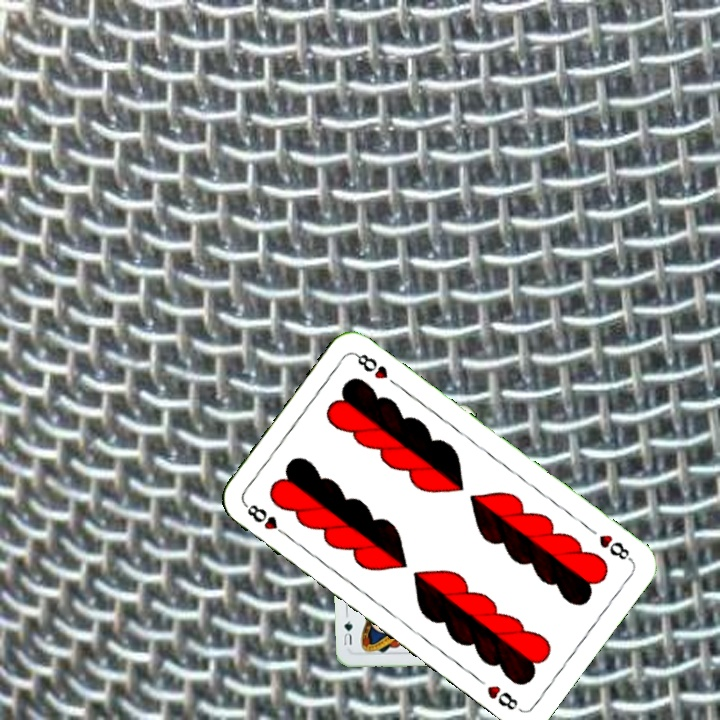H8: (240, 499, 291, 540), (595, 530, 635, 564)
